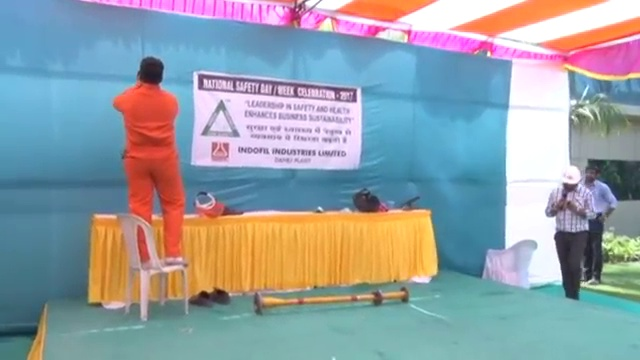helmet: (559, 165, 582, 186)
helmet_off: (140, 55, 165, 89), (583, 164, 599, 184)
helmet_on: (558, 163, 581, 196)
person: (108, 54, 190, 267), (544, 160, 595, 302), (583, 162, 618, 287)
